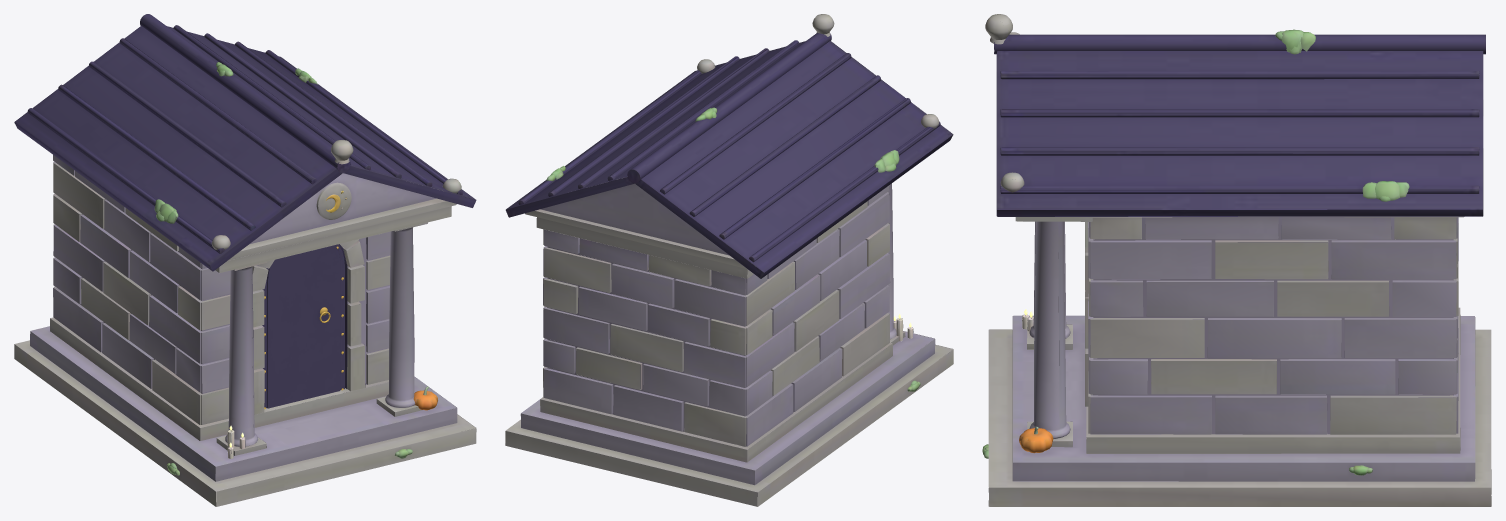
Rendered from mausoleo.glb.
The picture shows the model from 3 angles, left to right: view 1: azimuth 30°, elevation 25°; view 2: azimuth 150°, elevation 25°; view 3: azimuth 270°, elevation 25°; orthographic projection. The views are drawn at different scales.
Visible parts, largest first — view 1: mausoleum_body; view 2: mausoleum_body; view 3: mausoleum_body.
Boxes of the visible parts, x1,y1,x2,y2 form: mausoleum_body: [14, 14, 476, 506]; mausoleum_body: [505, 14, 953, 506]; mausoleum_body: [982, 14, 1491, 506].
Bounding box in the file's own units: 2.88 × 3.4 × 3.8.
3 materials, 2 textured.
